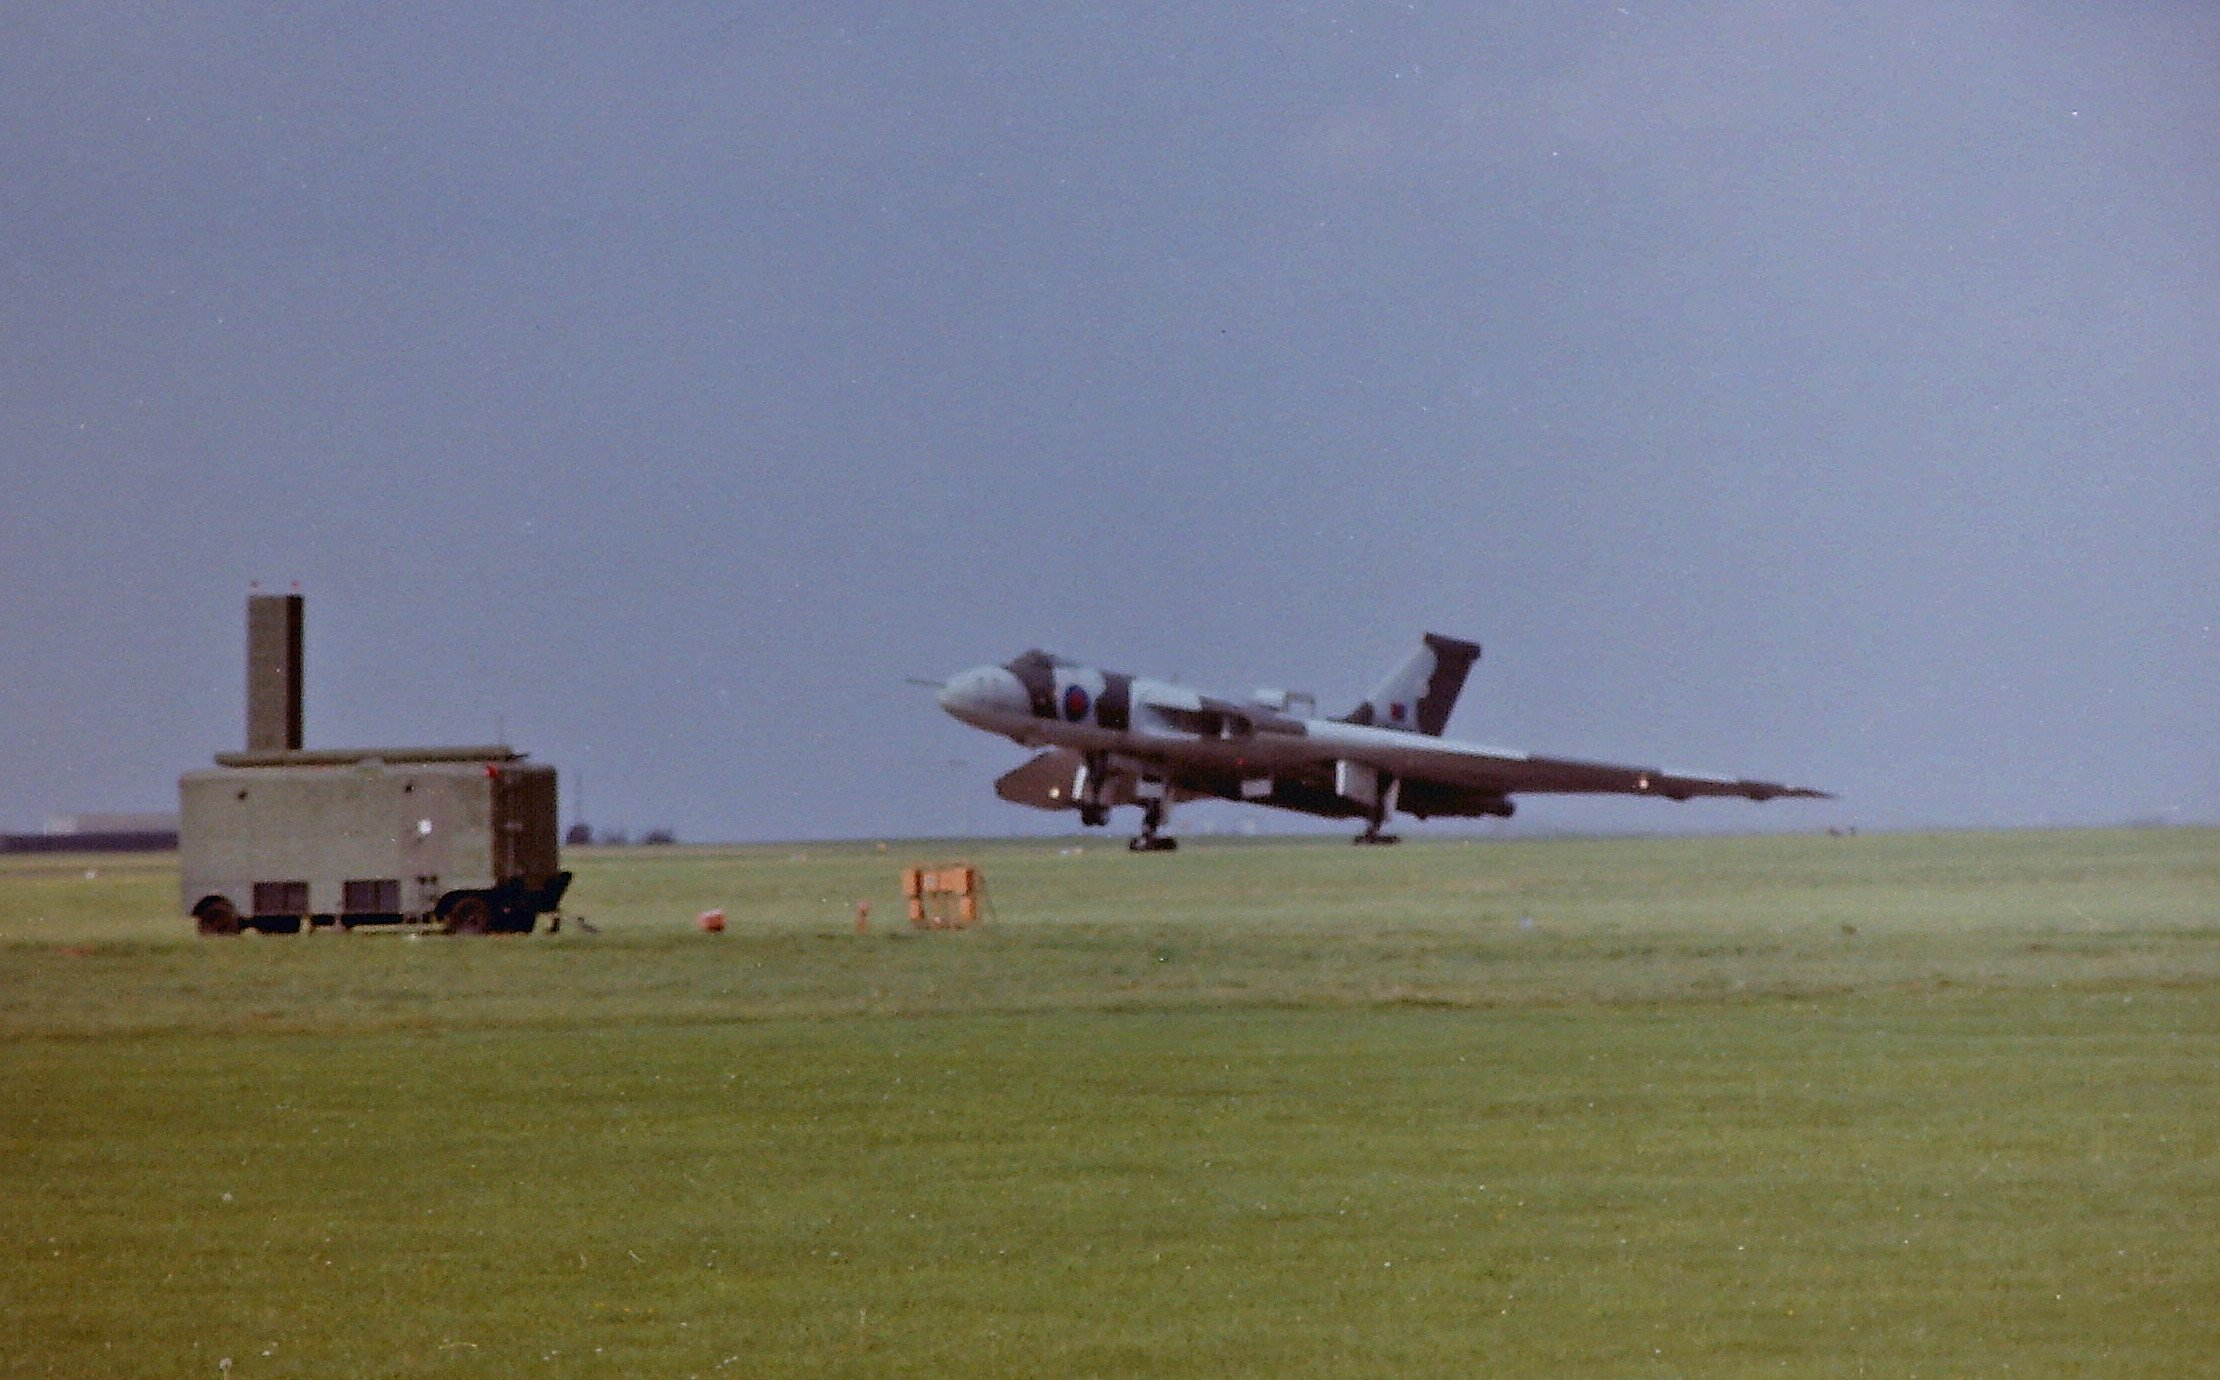airplane: (901, 630, 1845, 852)
